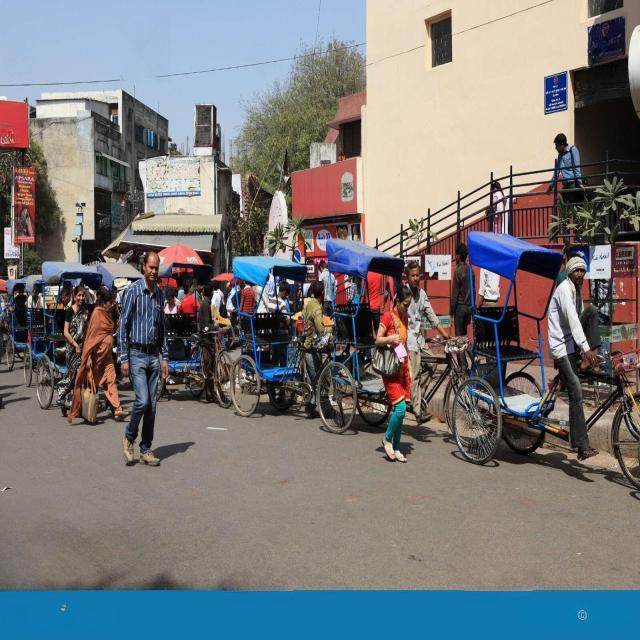bicycle: (452, 232, 640, 489), (316, 239, 404, 432)
